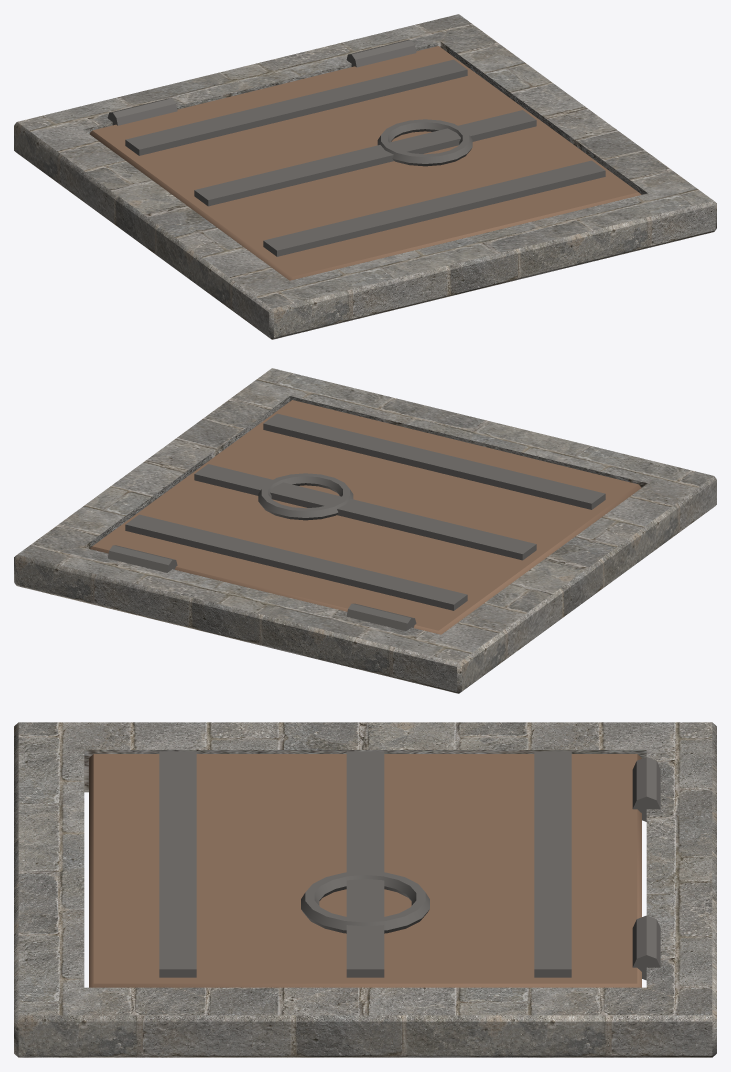
The model's file is iron-trapdoor-v01.glb.
3 views of the same model, one above another, from view 1: azimuth 30°, elevation 25°; view 2: azimuth 150°, elevation 25°; view 3: azimuth 270°, elevation 25° (orthographic). The views are drawn at different scales.
Parts seen in each view (by area): view 1: iron-trapdoor; view 2: iron-trapdoor; view 3: iron-trapdoor.
Boxes of the visible parts, x1=… form: iron-trapdoor: x1=14, y1=14, x2=716, y2=339; iron-trapdoor: x1=14, y1=368, x2=716, y2=693; iron-trapdoor: x1=14, y1=722, x2=716, y2=1057.
Size of the model in its own units: 1.5 by 0.13 by 1.5.
3 materials, 1 textured.
